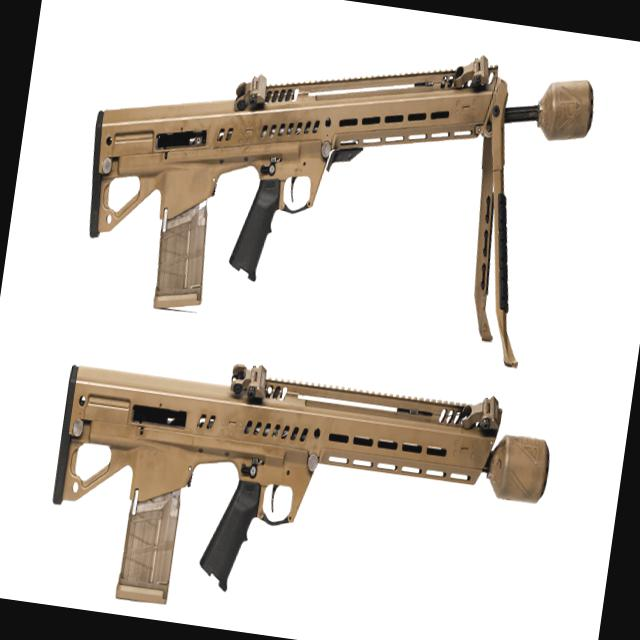long weapon: (58, 0, 604, 359), (23, 309, 576, 639)
